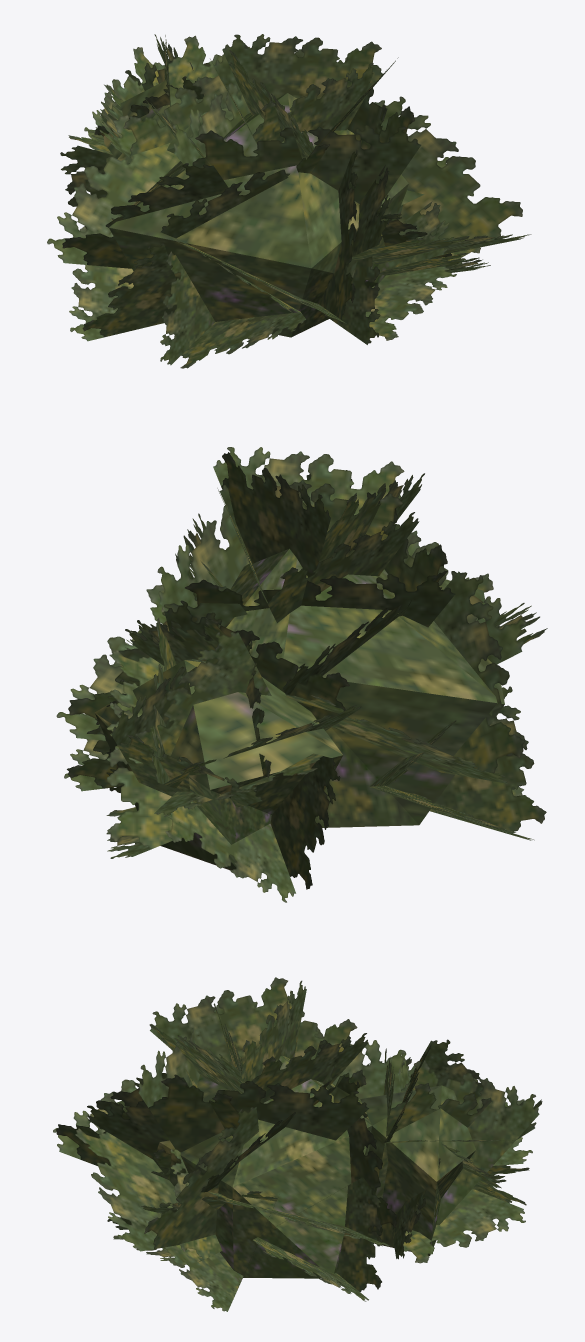
File: C1SNBUSHA.obj
3 renders of one model, top to bottom at view 1: azimuth 30°, elevation 25°; view 2: azimuth 150°, elevation 25°; view 3: azimuth 270°, elevation 25°, orthographic. The views are drawn at different scales.
Visible parts, largest first — view 1: Node 0; view 2: Node 0; view 3: Node 0.
Boxes of the visible parts, box(x1,y1,x2,y2) form: Node 0: box(47, 34, 531, 368); Node 0: box(56, 447, 547, 902); Node 0: box(53, 977, 542, 1311).
Size of the model in its own units: 3.64 by 2.32 by 4.23.
1 material, 1 textured.
